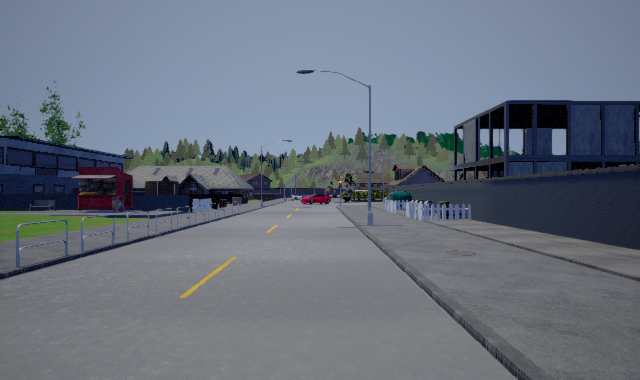vehicle: (291, 194, 331, 205)
